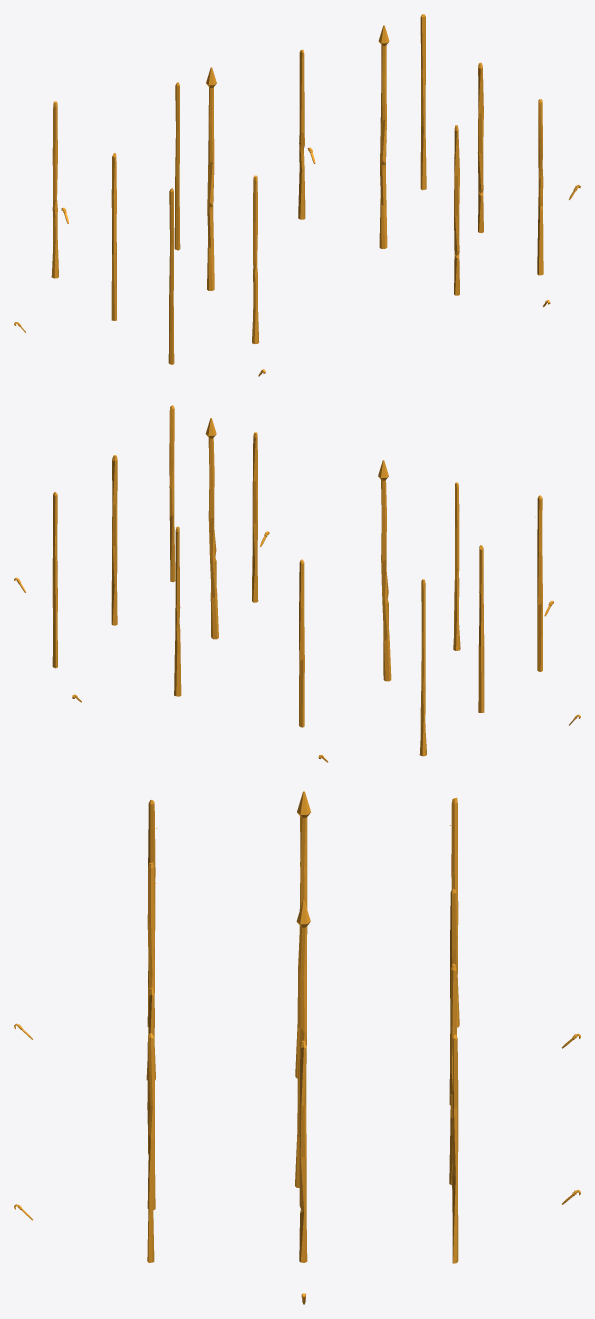
The model's file is SM_Tent_Royal_Striped_Construct_A_Frame_Fantasy.fbx.
The picture shows the model from 3 angles, top to bottom: view 1: azimuth 30°, elevation 25°; view 2: azimuth 150°, elevation 25°; view 3: azimuth 270°, elevation 25°; orthographic projection. The views are drawn at different scales.
Visible parts, largest first — view 1: tent-royal-striped-construct-a-frame-fantasy; view 2: tent-royal-striped-construct-a-frame-fantasy; view 3: tent-royal-striped-construct-a-frame-fantasy.
Part boxes in pixels (<box>): tent-royal-striped-construct-a-frame-fantasy: <box>14,14,580,376</box>; tent-royal-striped-construct-a-frame-fantasy: <box>14,405,580,762</box>; tent-royal-striped-construct-a-frame-fantasy: <box>14,791,580,1304</box>.
Size of the model in its own units: 13.65 by 5.31 by 9.11.
